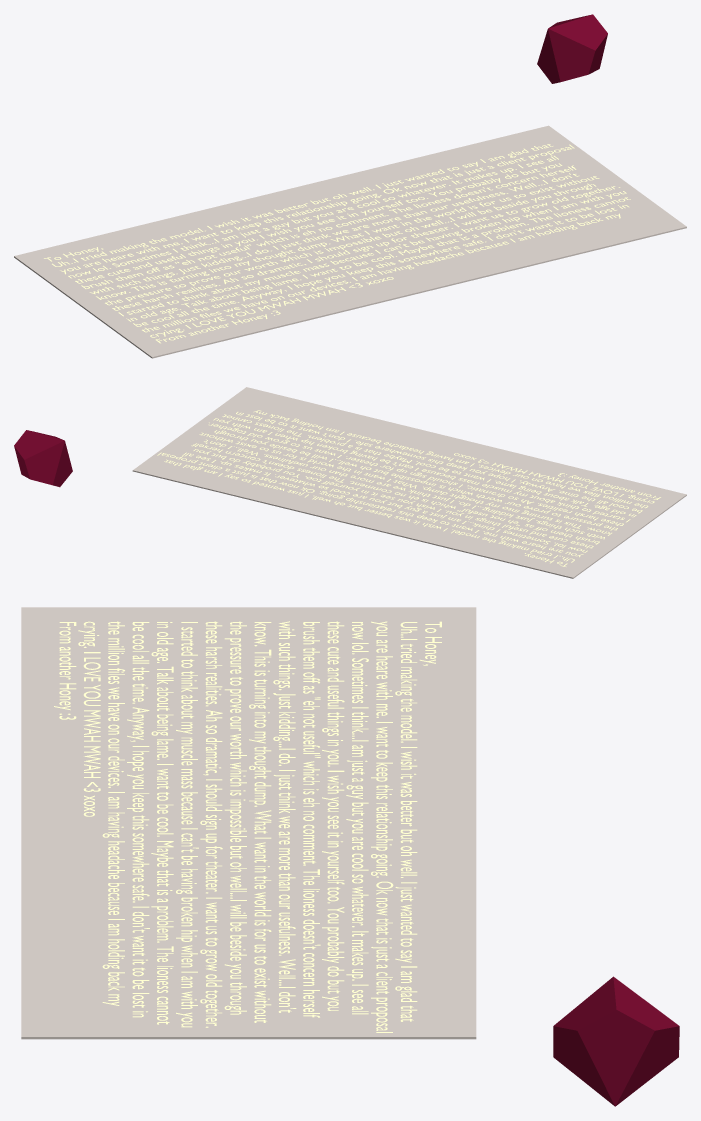
The model's file is CardNDice.glb.
The picture shows the model from 3 angles, top to bottom: view 1: azimuth 30°, elevation 25°; view 2: azimuth 150°, elevation 25°; view 3: azimuth 270°, elevation 25°; orthographic projection. The views are drawn at different scales.
Visible parts, largest first — view 1: Card, Text.010, D10; view 2: Card, Text.010, D10; view 3: Card, Text.010, D10.
Part boxes in pixels (x1,y1,x2,y2): Card: (14,125,686,358); Text.010: (44,144,630,343); D10: (537,14,607,83); Card: (132,387,686,578); Text.010: (157,410,660,566); D10: (14,430,72,487); Card: (21,607,476,1039); Text.010: (54,621,441,1032); D10: (553,976,679,1106).
Bounding box in the file's own units: 9.39 × 0.8629 × 5.18.
